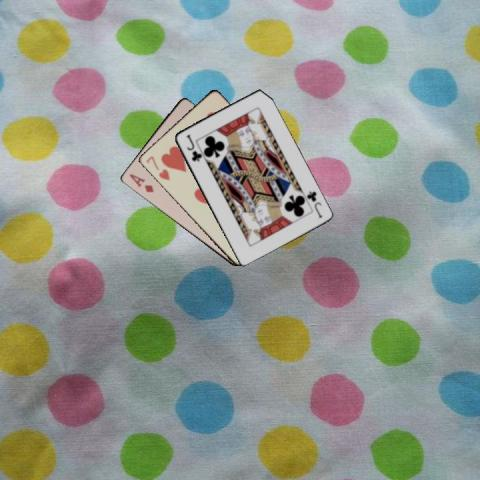7h: (142, 153, 170, 182)
Ad: (126, 171, 155, 194)
Jc: (303, 188, 324, 219), (183, 132, 202, 163)
